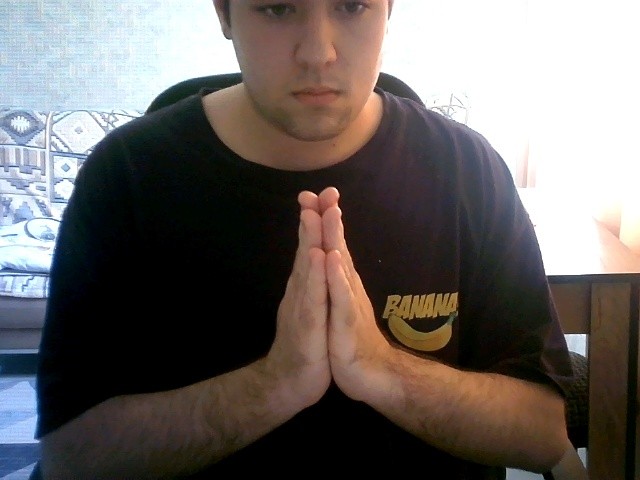please: (246, 173, 437, 438)
